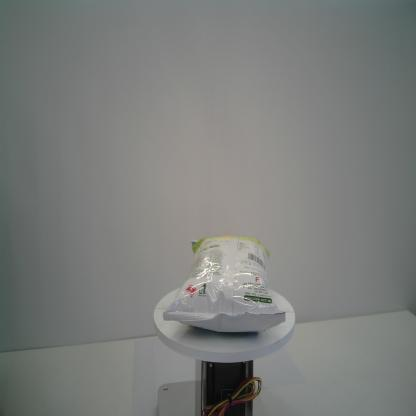Puffed Food: (162, 234, 286, 332)
